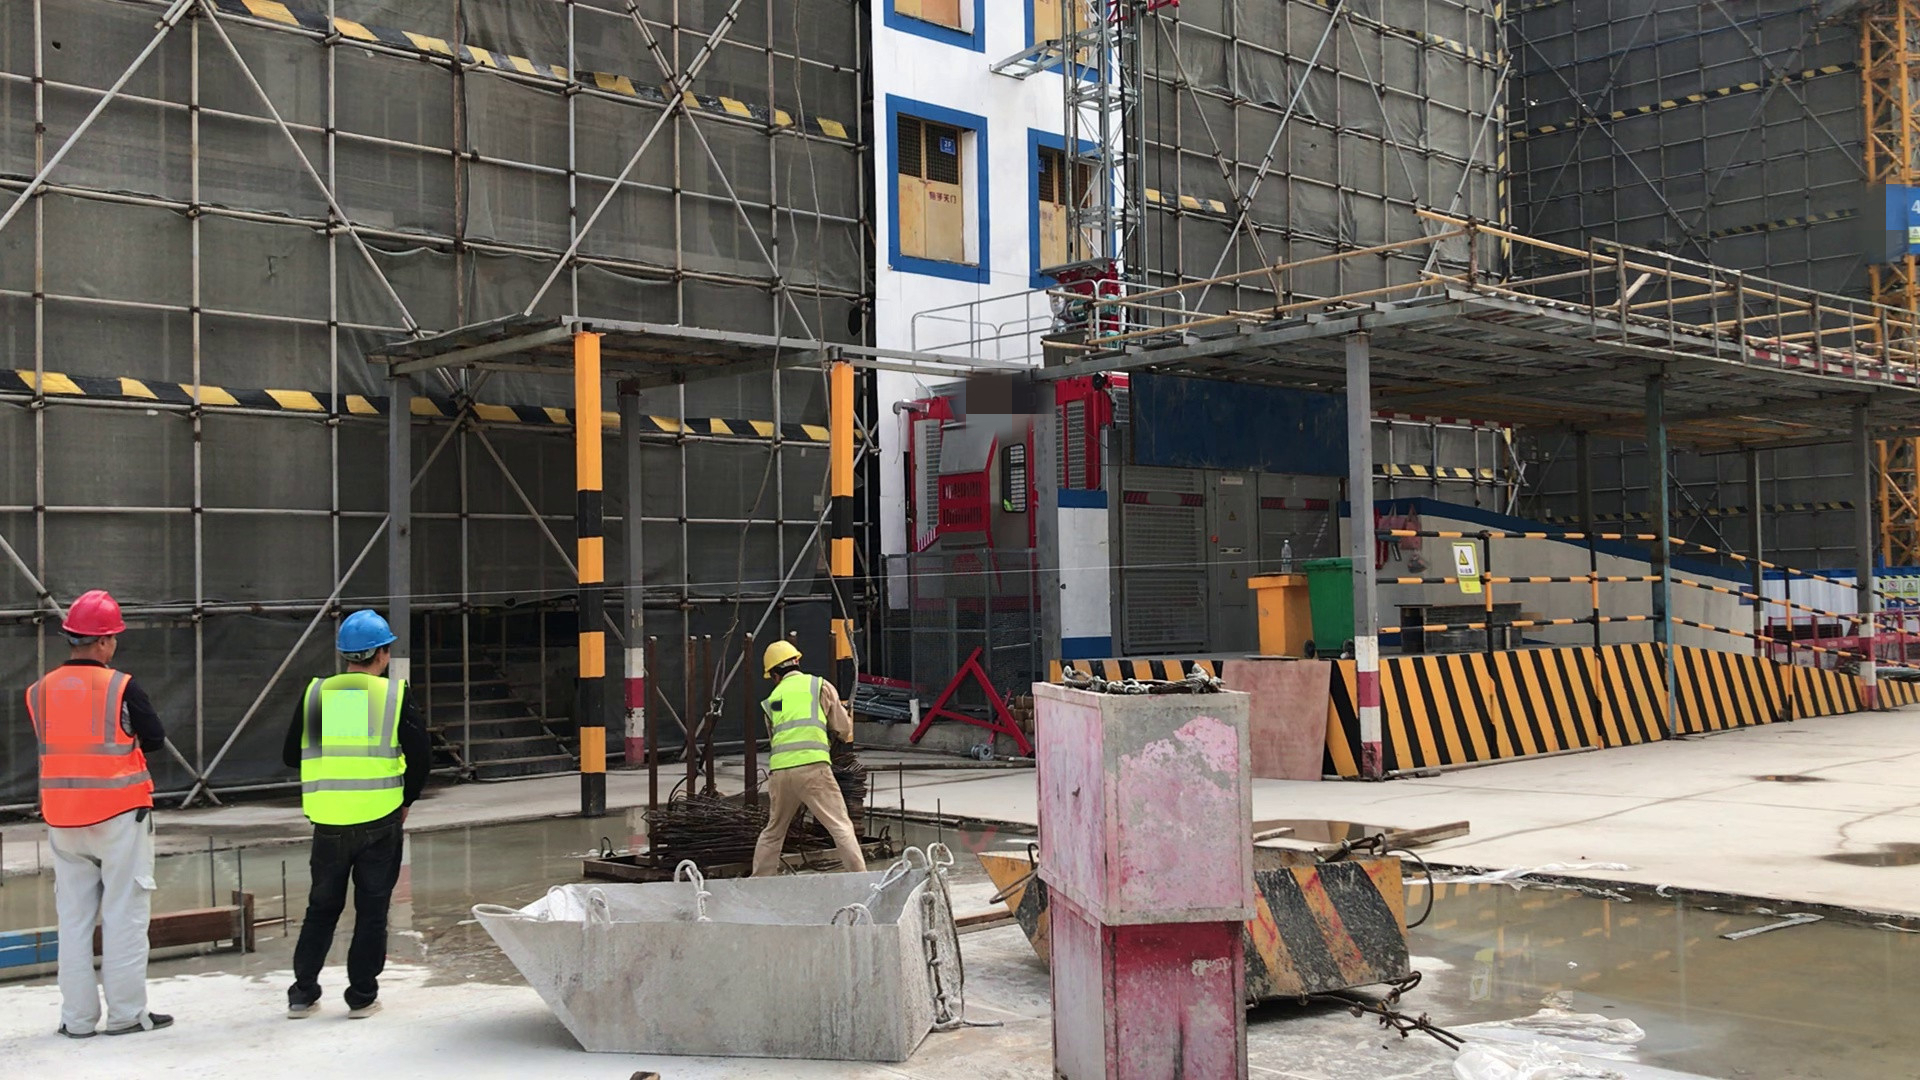fence: (1371, 499, 1920, 669)
helmet: (54, 585, 128, 642), (329, 609, 403, 656), (758, 637, 811, 677)
hopper: (479, 845, 938, 1065), (979, 836, 1452, 1018)
person: (24, 587, 189, 1047), (283, 608, 428, 1037), (750, 633, 868, 870)
slogan: (1445, 532, 1527, 623)
vest: (20, 659, 157, 828), (300, 671, 408, 828), (757, 679, 838, 778)
